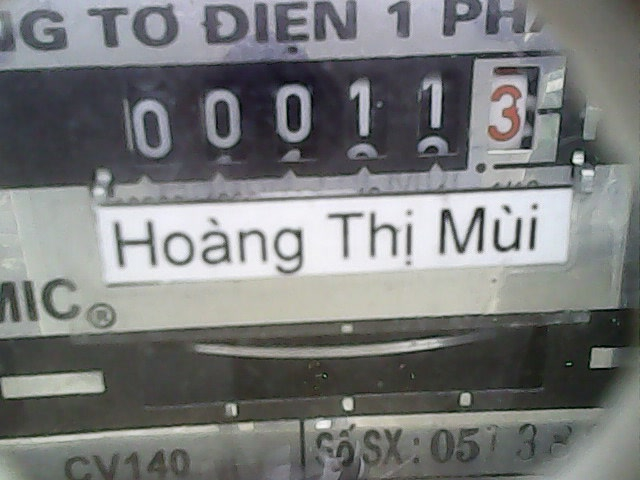phy_plate: (100, 52, 572, 181)
